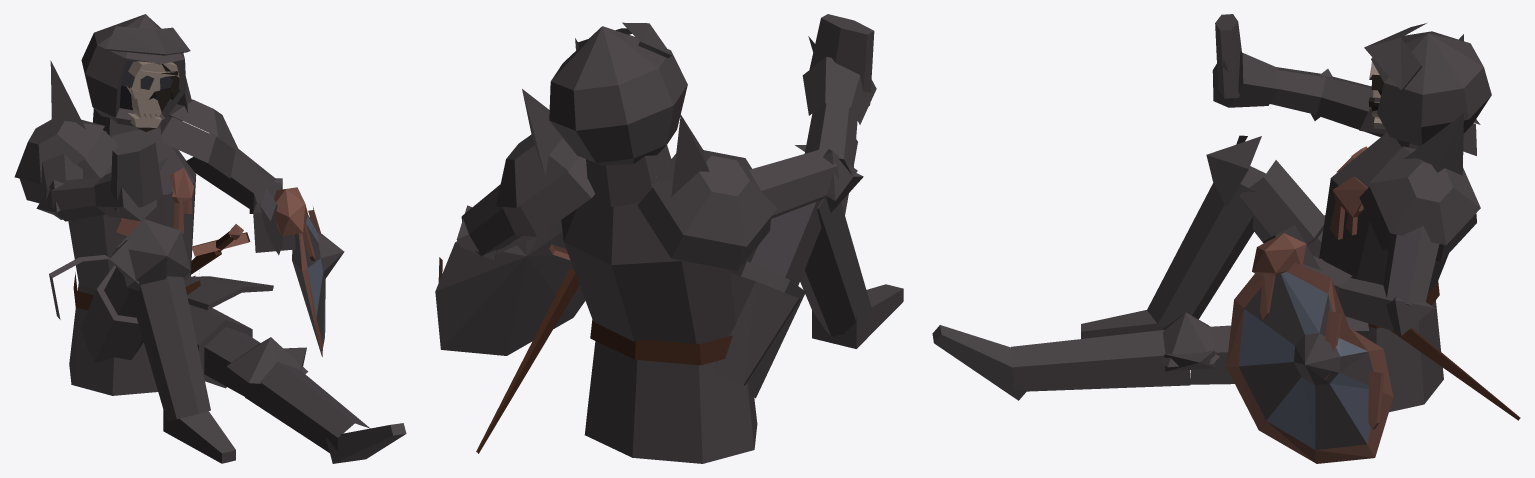
Rendered from scorched-knight-remains-7a9b61.glb.
3 renders of one model, left to right at view 1: azimuth 30°, elevation 25°; view 2: azimuth 150°, elevation 25°; view 3: azimuth 270°, elevation 25°, orthographic. The views are drawn at different scales.
Parts seen in each view (by area): view 1: body, visor-mesh, sword-mesh; view 2: body, visor-mesh; view 3: body, visor-mesh.
Boxes of the visible parts, x1,y1,x2,y2 form: body: [14, 14, 406, 463]; visor-mesh: [106, 26, 190, 55]; sword-mesh: [192, 224, 250, 256]; body: [435, 14, 903, 463]; visor-mesh: [575, 22, 671, 58]; body: [932, 14, 1520, 463]; visor-mesh: [1364, 23, 1426, 90].
Bounding box in the file's own units: 0.976 × 1.02 × 1.5.
